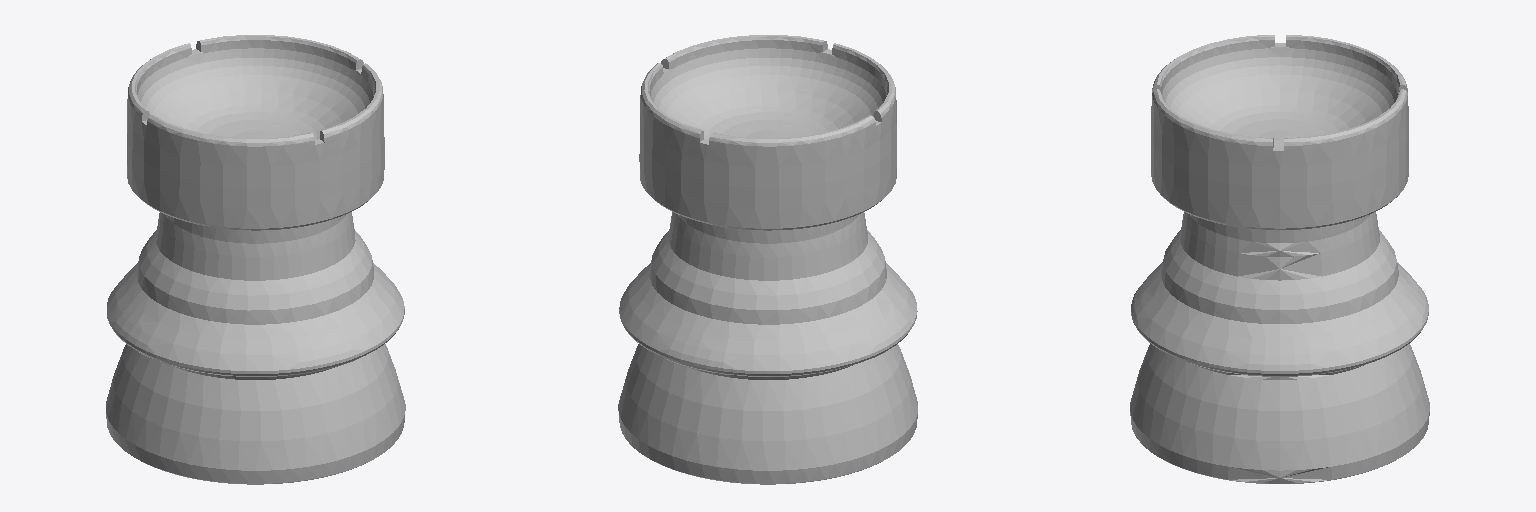
File: whiteRook.obj
3 renders of one model, left to right at view 1: azimuth 30°, elevation 25°; view 2: azimuth 150°, elevation 25°; view 3: azimuth 270°, elevation 25°, orthographic.
Parts seen in each view (by area): view 1: Obj_000087; view 2: Obj_000087; view 3: Obj_000087.
Boxes of the visible parts, x1=… form: Obj_000087: x1=106, y1=35, x2=405, y2=484; Obj_000087: x1=618, y1=35, x2=917, y2=484; Obj_000087: x1=1130, y1=35, x2=1429, y2=483.
Bounding box in the file's own units: 3.78 × 4.68 × 3.76.